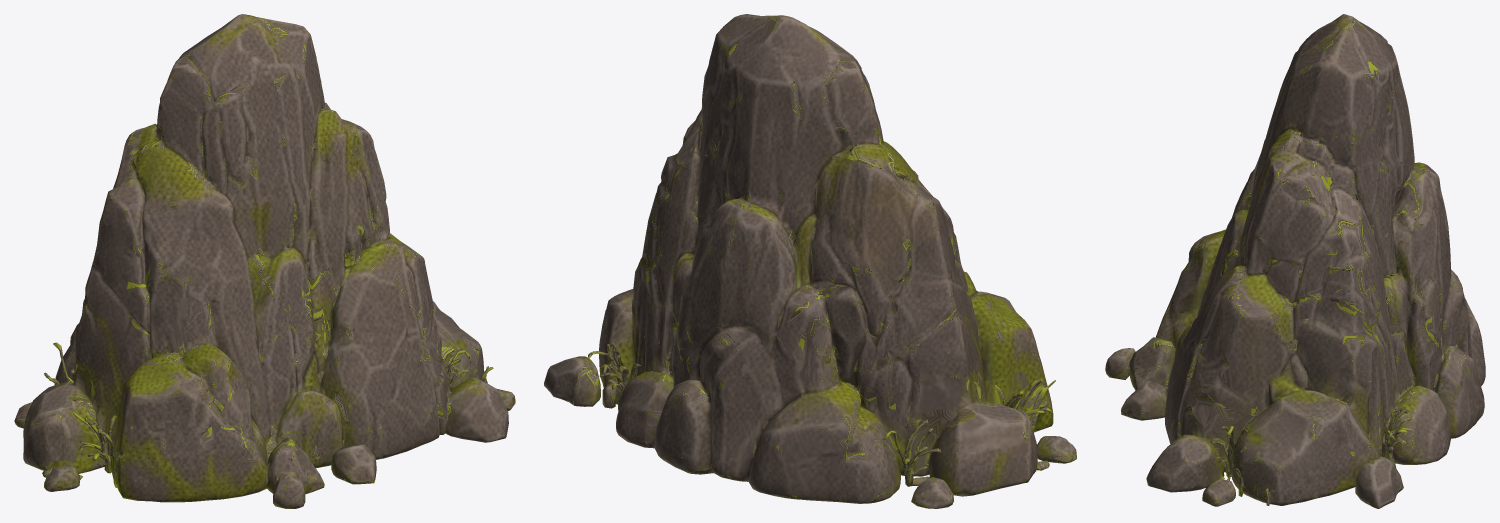
The model's file is rock_big.glb.
3 renders of one model, left to right at view 1: azimuth 30°, elevation 25°; view 2: azimuth 150°, elevation 25°; view 3: azimuth 270°, elevation 25°, orthographic. The views are drawn at different scales.
Bounding box in the file's own units: 1.84 × 1.53 × 1.36.
1 material, 1 textured.
